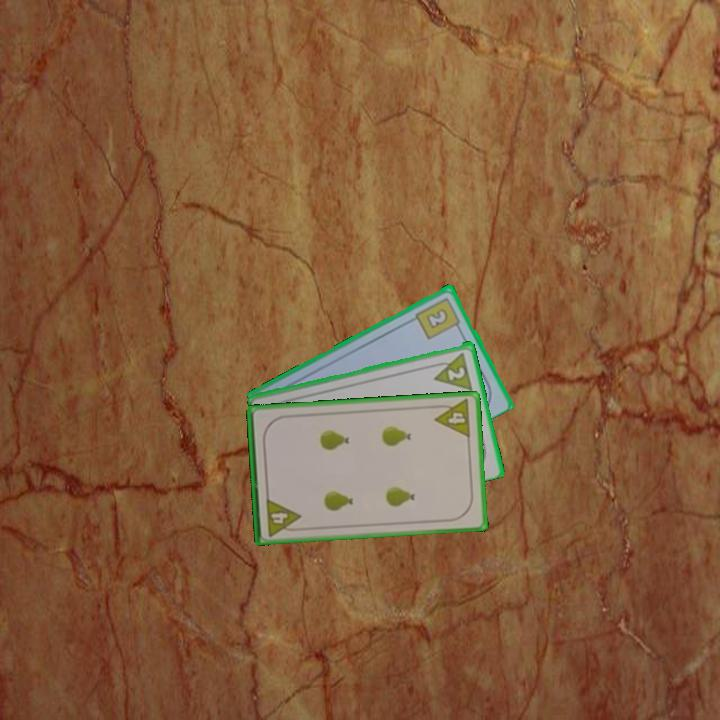2b: (412, 293, 464, 342)
2p: (428, 348, 475, 392)
4p: (431, 396, 474, 440), (262, 494, 304, 539)
